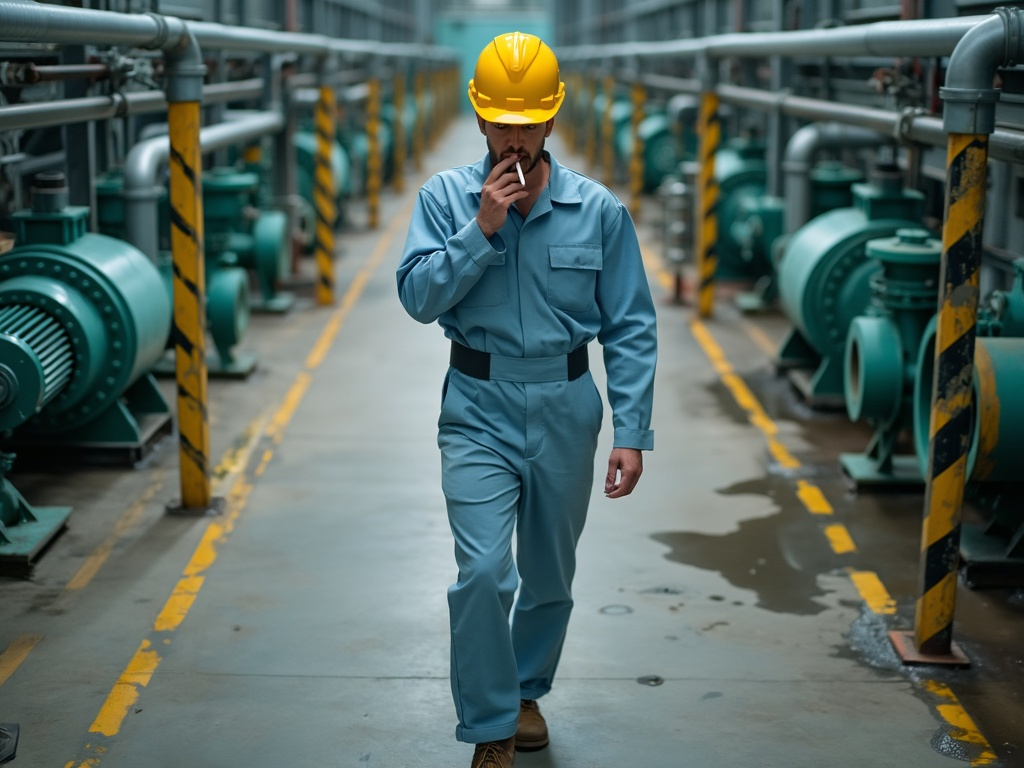smoking: (498, 147, 538, 191)
